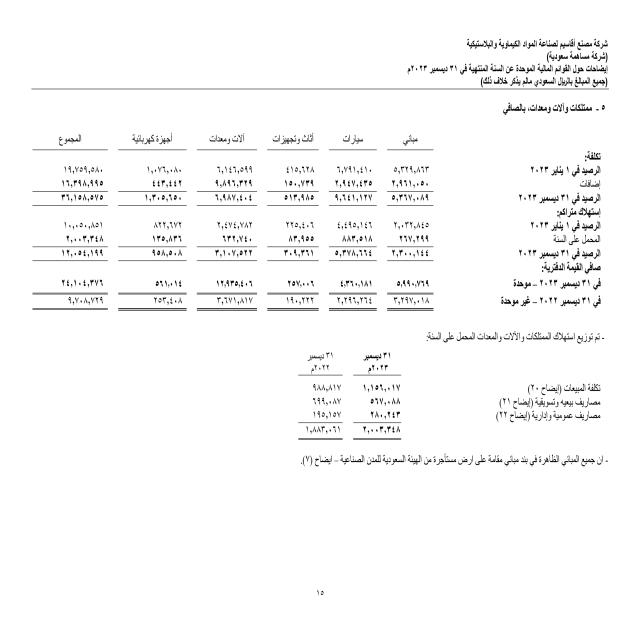notes: (536, 64, 611, 74)
table: (22, 123, 457, 321), (298, 336, 410, 444)
